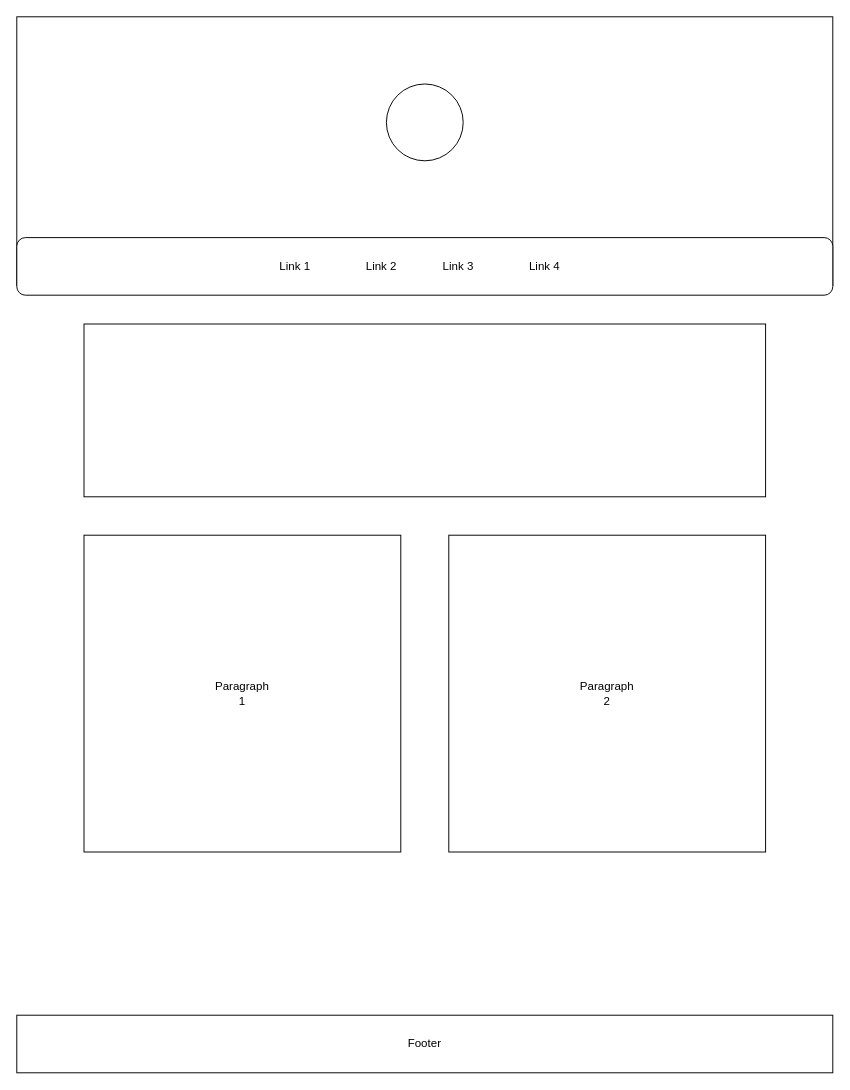
Some shapes in this 850 by 1090 pixel diagram are drawn without their labels. Here are the shapes that lost their labels. From the top down, the centre of each, then its label:
At point 424,122: "Logo".
At point 424,410: "Slideshow".
